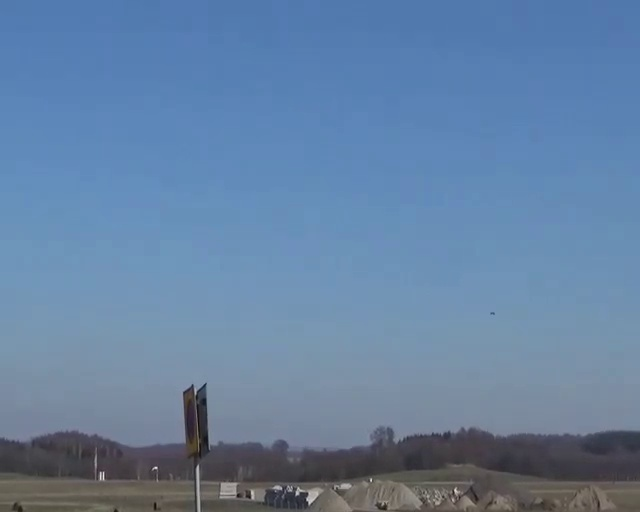BIRD: (484, 303, 498, 319)
